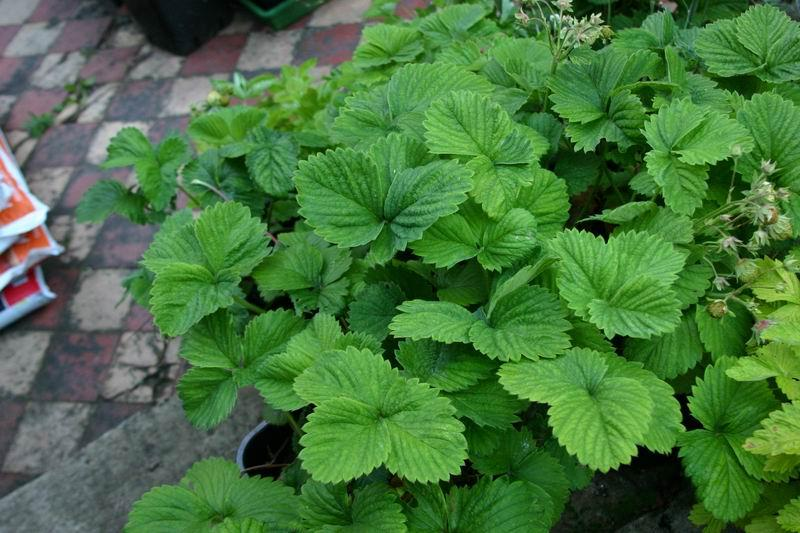Strawberry leaf: (303, 337, 470, 499), (674, 350, 790, 516), (544, 373, 652, 478), (290, 147, 390, 244), (375, 159, 469, 262), (138, 259, 248, 346), (476, 283, 586, 370), (194, 177, 280, 281), (644, 97, 754, 167), (383, 64, 493, 133), (545, 222, 624, 315), (581, 281, 690, 345), (420, 93, 511, 169), (502, 347, 621, 404), (592, 224, 685, 293), (542, 54, 623, 123), (454, 157, 533, 227), (384, 298, 485, 352), (658, 143, 709, 221)
